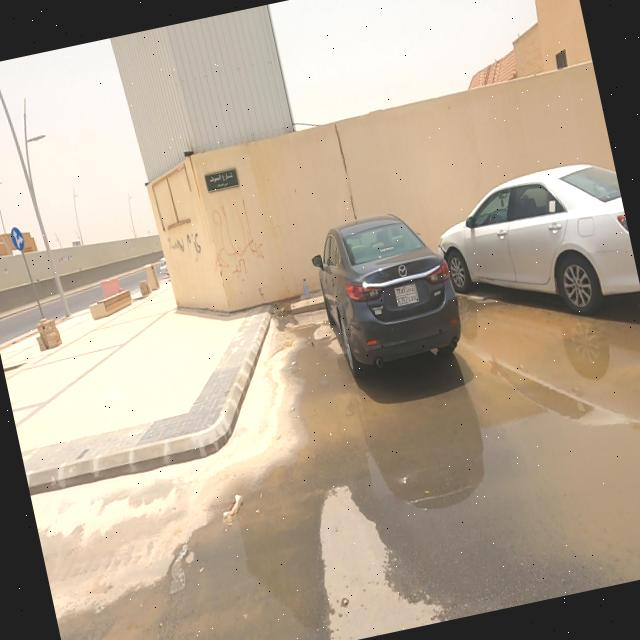Graffiti: (202, 199, 269, 281), (166, 228, 206, 268)
